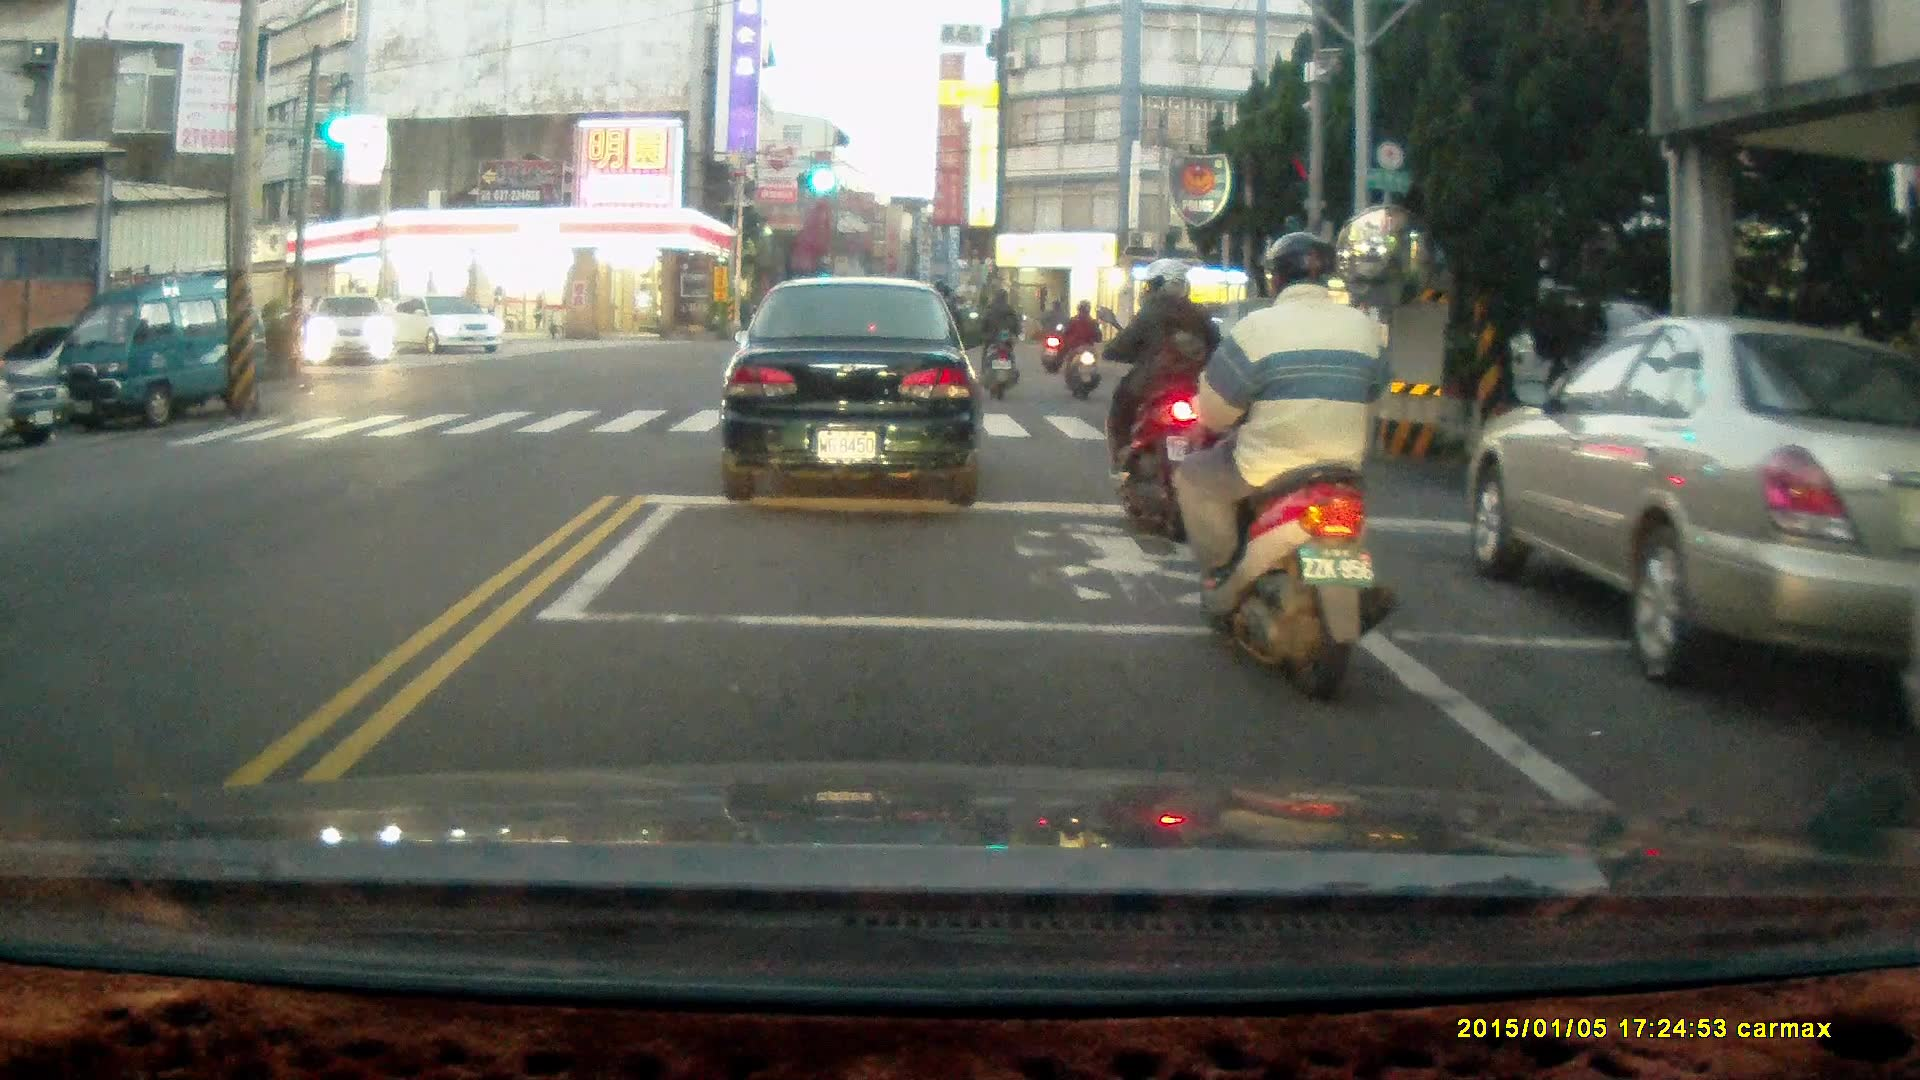rider: (1179, 228, 1403, 704), (1089, 257, 1225, 543), (968, 284, 1023, 400), (1060, 298, 1104, 400), (1038, 297, 1069, 372)
vehicle: (1462, 309, 1920, 701), (715, 274, 985, 508), (38, 263, 225, 429), (393, 289, 501, 360), (303, 297, 403, 372)
